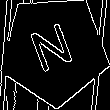N_S: (27, 20, 81, 81)
